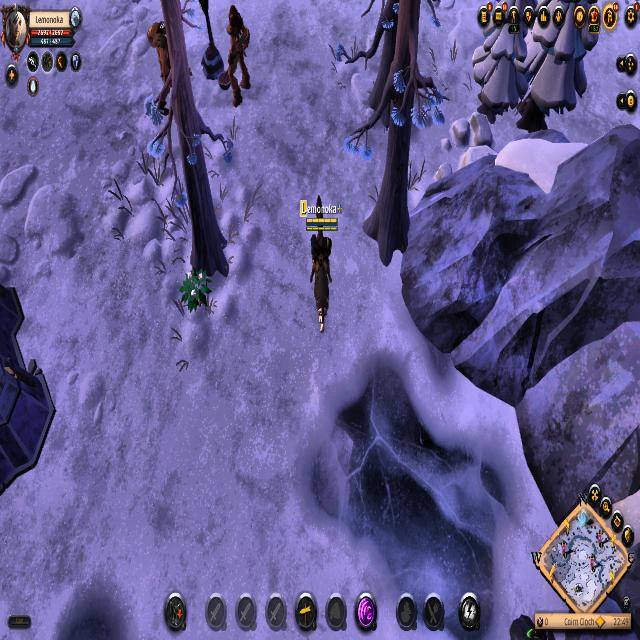fiber tier 3: (179, 264, 213, 314)
